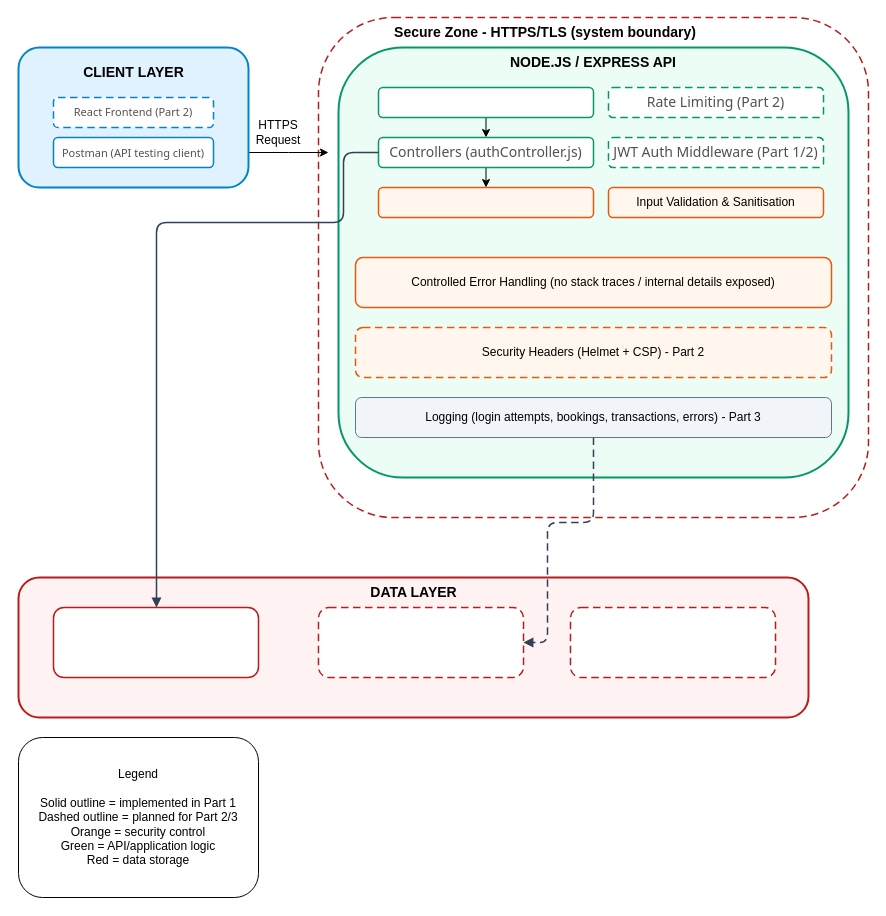
Image size: 886x916. Some labels were removed from this diagram. Each missing label, with the centre of its shape:
Env vars / secrets store JWT secret, DB URI - Part 2: the point at 672,642
In-memory array (users[]) Current - Part 1 only: the point at 155,642
MongoDB (users, gigs, bookings, transactions collections) Planned - Part 2: the point at 420,642
Password Hashing (bcrypt): the point at 485,202
Routes (authRoutes.js): the point at 485,102
